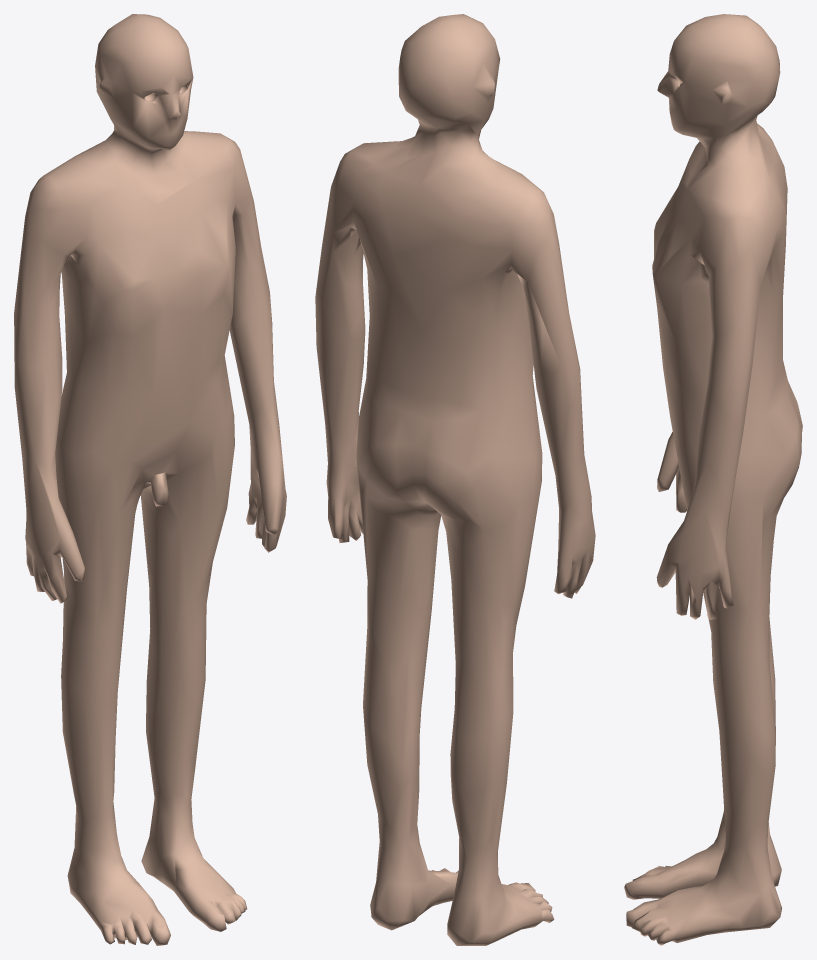
File: pediatric_adolescent_male.surface.LOD3.glb
The picture shows the model from 3 angles, left to right: view 1: azimuth 30°, elevation 25°; view 2: azimuth 150°, elevation 25°; view 3: azimuth 270°, elevation 25°; orthographic projection. The views are drawn at different scales.
Parts seen in each view (by area): view 1: PEDIATRIC.ADOLESCENT.MALE.SURFACE.SKIN; view 2: PEDIATRIC.ADOLESCENT.MALE.SURFACE.SKIN; view 3: PEDIATRIC.ADOLESCENT.MALE.SURFACE.SKIN.
Boxes of the visible parts, x1,y1,x2,y2 form: PEDIATRIC.ADOLESCENT.MALE.SURFACE.SKIN: [14, 14, 286, 945]; PEDIATRIC.ADOLESCENT.MALE.SURFACE.SKIN: [315, 14, 595, 945]; PEDIATRIC.ADOLESCENT.MALE.SURFACE.SKIN: [624, 14, 802, 945].
Bounding box in the file's own units: 0.5008 × 1.67 × 0.3015.
